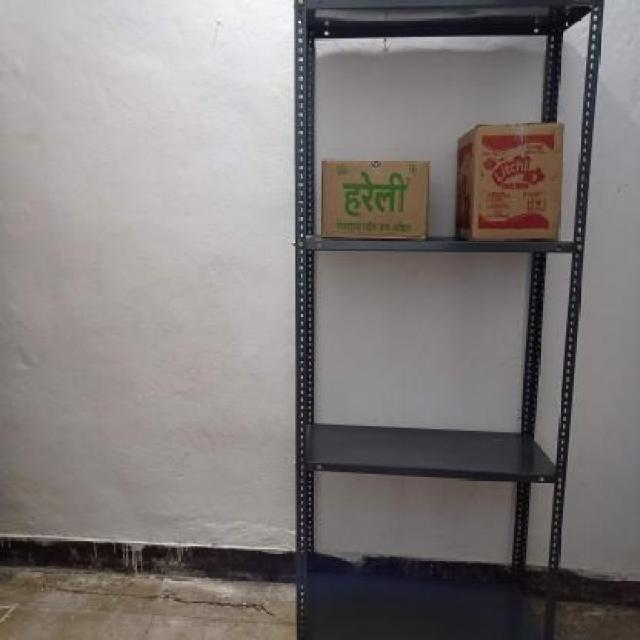box: (474, 124, 562, 238), (321, 156, 430, 241)
